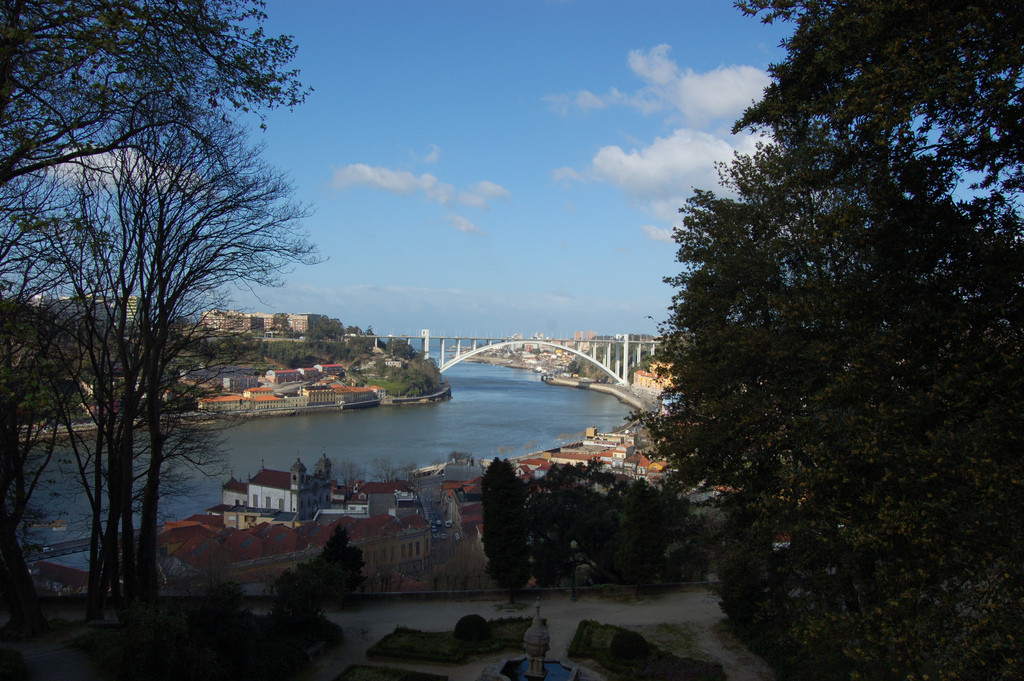arrabida: (379, 327, 666, 387)
